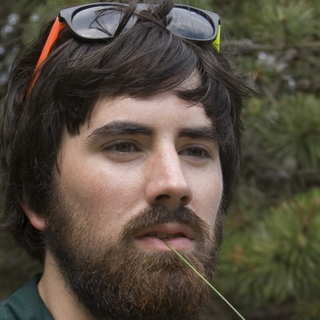eye: (98, 134, 149, 160), (174, 139, 215, 165)
